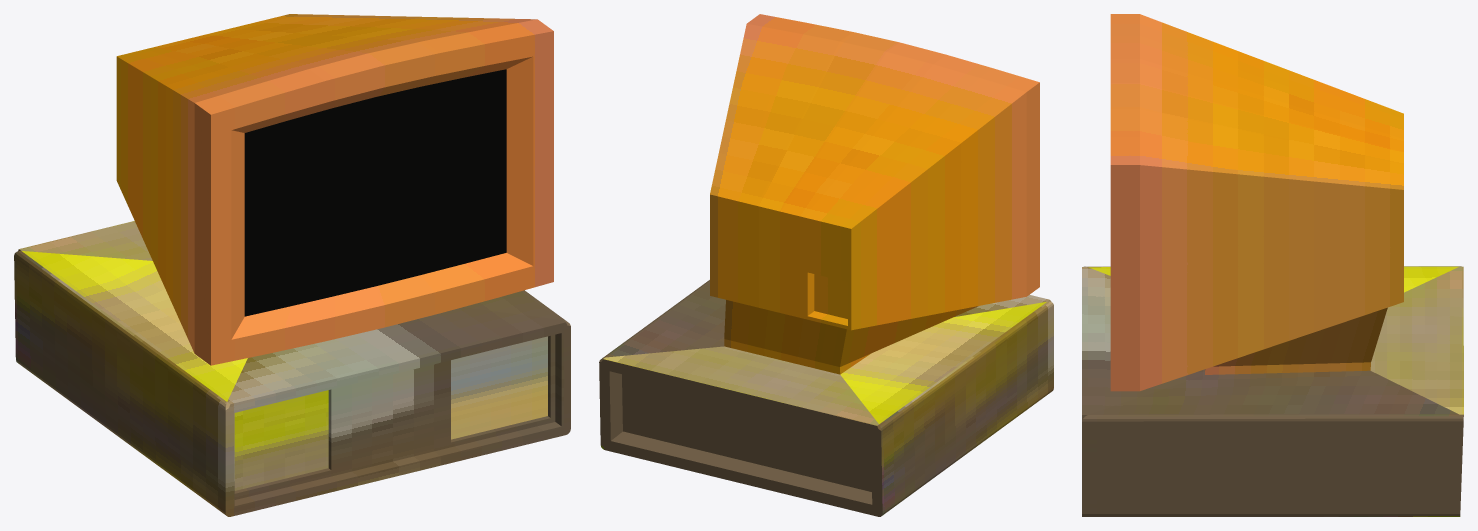
The model's file is compy.glb.
The picture shows the model from 3 angles, left to right: view 1: azimuth 30°, elevation 25°; view 2: azimuth 150°, elevation 25°; view 3: azimuth 270°, elevation 25°; orthographic projection. The views are drawn at different scales.
Visible parts, largest first — view 1: Compy; view 2: Compy; view 3: Compy.
Part boxes in pixels (x1,y1,x2,y2): Compy: [14, 14, 570, 516]; Compy: [599, 14, 1053, 516]; Compy: [1082, 14, 1463, 516].
Size of the model in its own units: 0.8165 by 0.9006 by 0.8664.
Materials: 1 (1 with a texture image).
